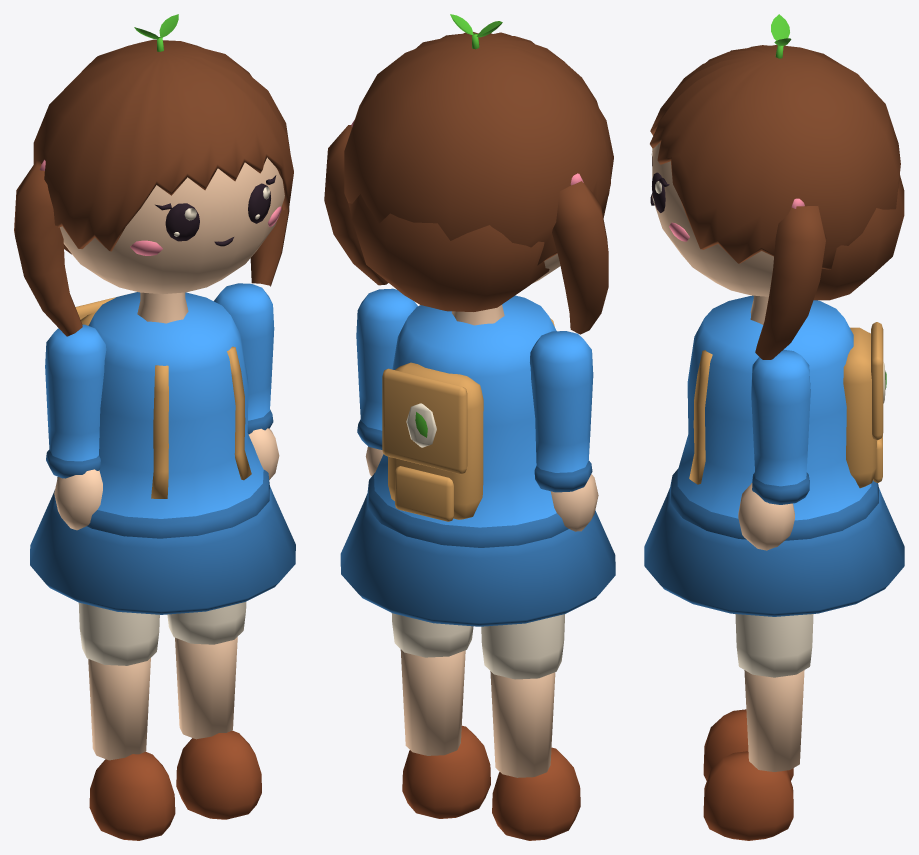
The model's file is hero-girl-teen.glb.
3 renders of one model, left to right at view 1: azimuth 30°, elevation 25°; view 2: azimuth 150°, elevation 25°; view 3: azimuth 270°, elevation 25°, orthographic. The views are drawn at different scales.
Parts seen in each view (by area): view 1: head, body, leg-left, leg-right, arm-left, arm-right; view 2: head, body, leg-left, leg-right, arm-left, arm-right; view 3: head, body, leg-right, arm-right, leg-left, head-leaf.
Part boxes in pixels (x1,y1,x2,y2): head: (14, 39, 293, 336); body: (30, 292, 295, 614); leg-left: (78, 602, 175, 840); leg-right: (167, 602, 261, 819); arm-left: (45, 324, 106, 530); arm-right: (214, 283, 279, 479); head: (324, 32, 613, 334); body: (340, 295, 615, 626); leg-left: (481, 614, 580, 840); leg-right: (391, 613, 490, 818); arm-left: (530, 331, 598, 531); arm-right: (356, 288, 417, 476); head: (650, 45, 904, 359); body: (644, 295, 904, 616); leg-right: (703, 614, 813, 840); arm-right: (738, 349, 810, 550); leg-left: (703, 709, 793, 780); head-leaf: (771, 14, 791, 58).
Size of the model in its own units: 0.9127 by 2.51 by 0.7554.
